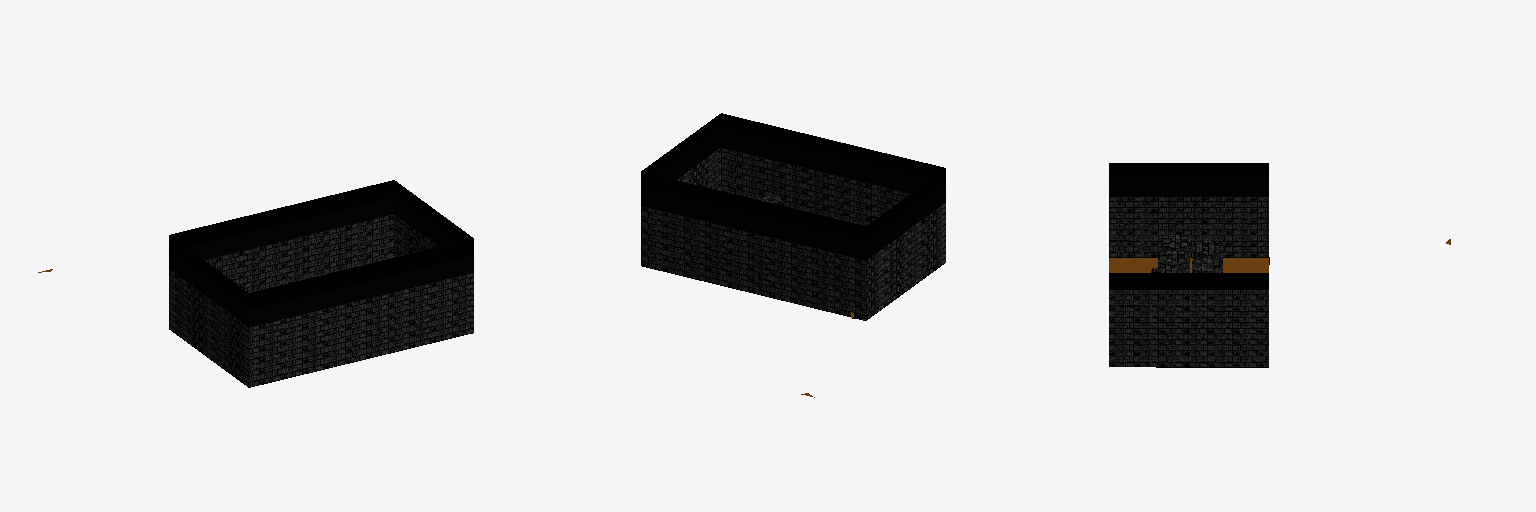
The picture shows the model from 3 angles: view 1: azimuth 30°, elevation 25°; view 2: azimuth 150°, elevation 25°; view 3: azimuth 270°, elevation 25°; orthographic projection.
Parts seen in each view (by area): view 1: Mesh12 Group1 Model; view 2: Mesh12 Group1 Model; view 3: Mesh12 Group1 Model, Mesh7 Group8 Group1 Model.
Part boxes in pixels (bbox=[...]): Mesh12 Group1 Model: bbox=[169, 180, 473, 387]; Mesh12 Group1 Model: bbox=[641, 113, 945, 320]; Mesh12 Group1 Model: bbox=[1109, 163, 1269, 367]; Mesh7 Group8 Group1 Model: bbox=[1193, 241, 1222, 272].
Bounding box in the file's own units: 4460 × 1539 × 4981.
5 materials, 1 textured.